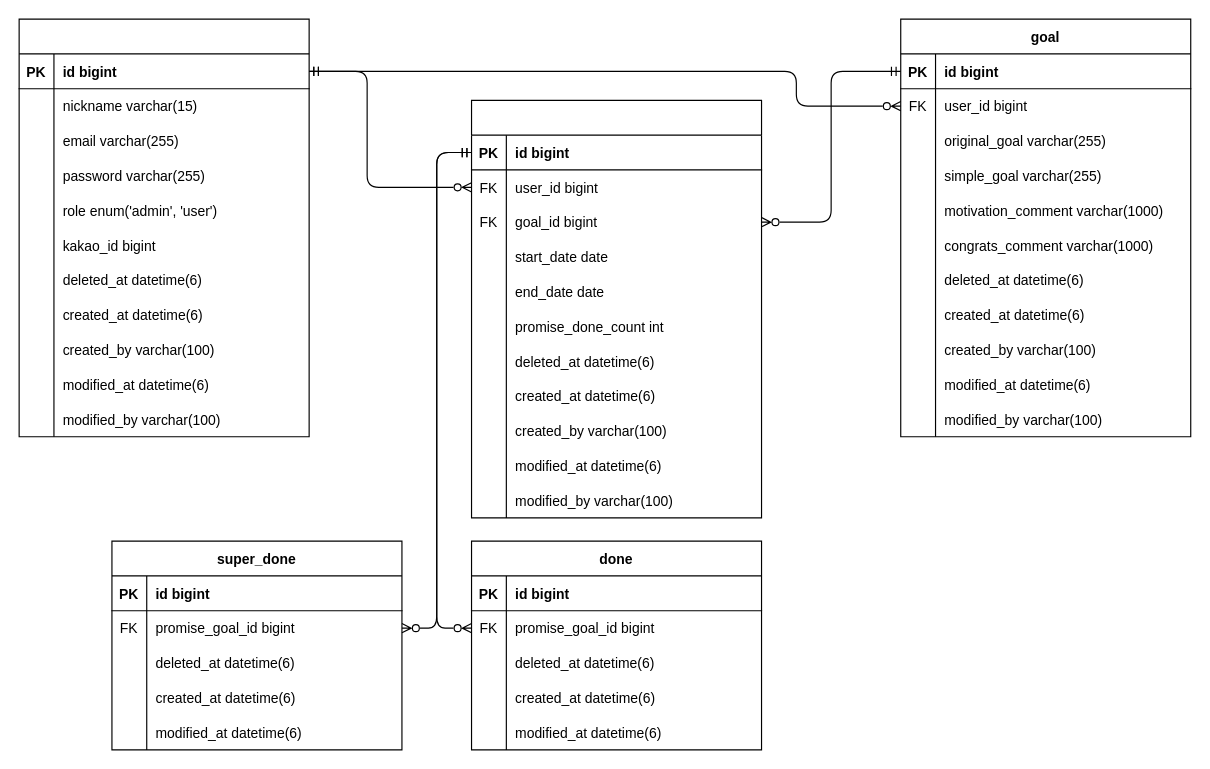
Image size: 1210x769. Some labels were removed from this diagram. Each missing label, with the box of its shape:
promise_goal: (470, 99, 762, 518)
users: (18, 18, 309, 437)
